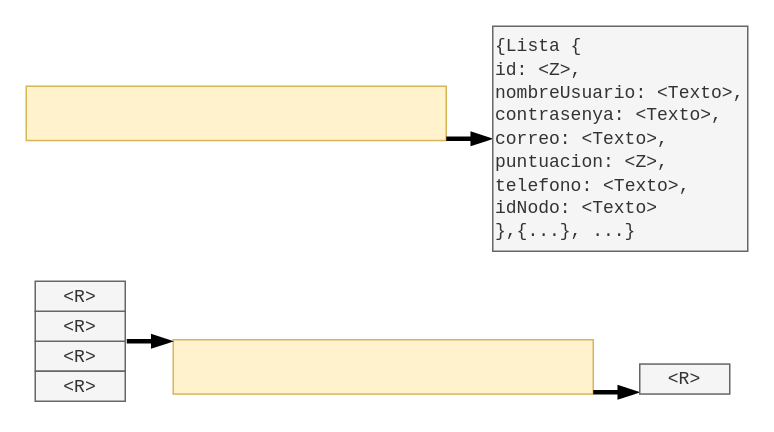
This 774x432 diagram has some shape labels left out. Here are the shapes that lost their labels. From the top down, the centre of each, then its label:
the point at 235,113: buscarDistanciaYTiempoDeUsuarios()
the point at 382,366: obtenerDistancia()
